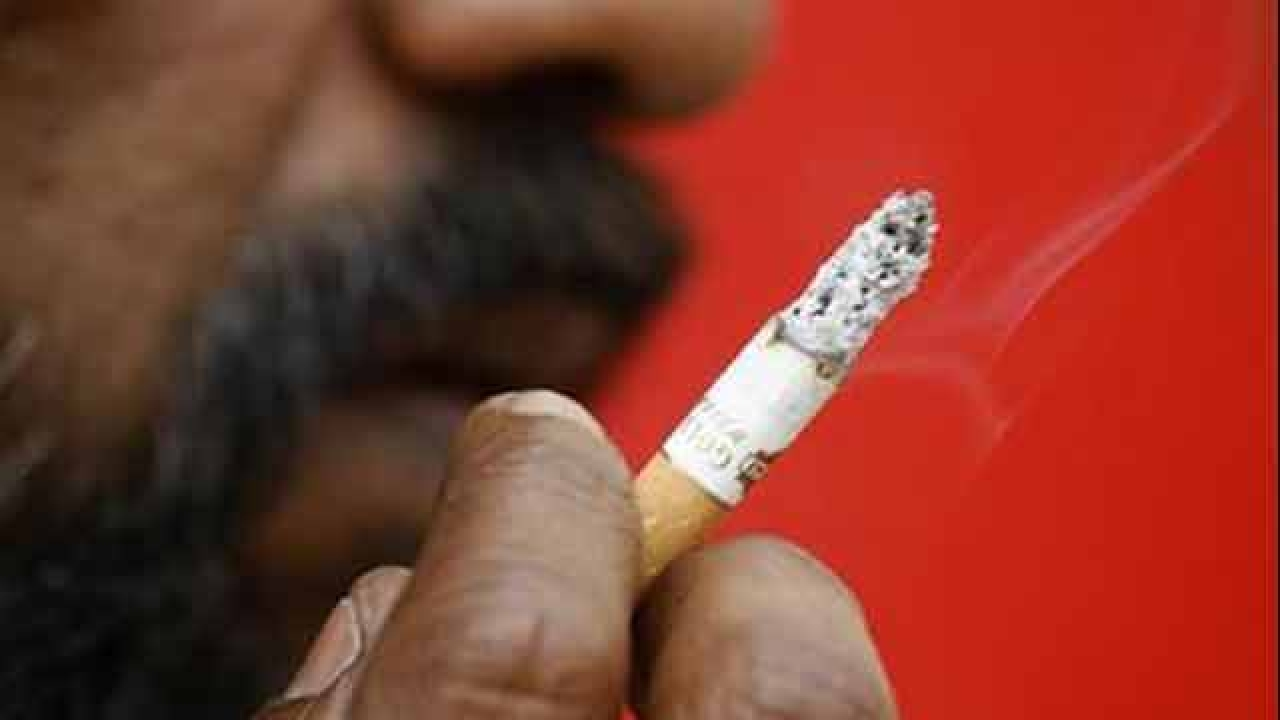cigarette: (611, 168, 962, 595)
